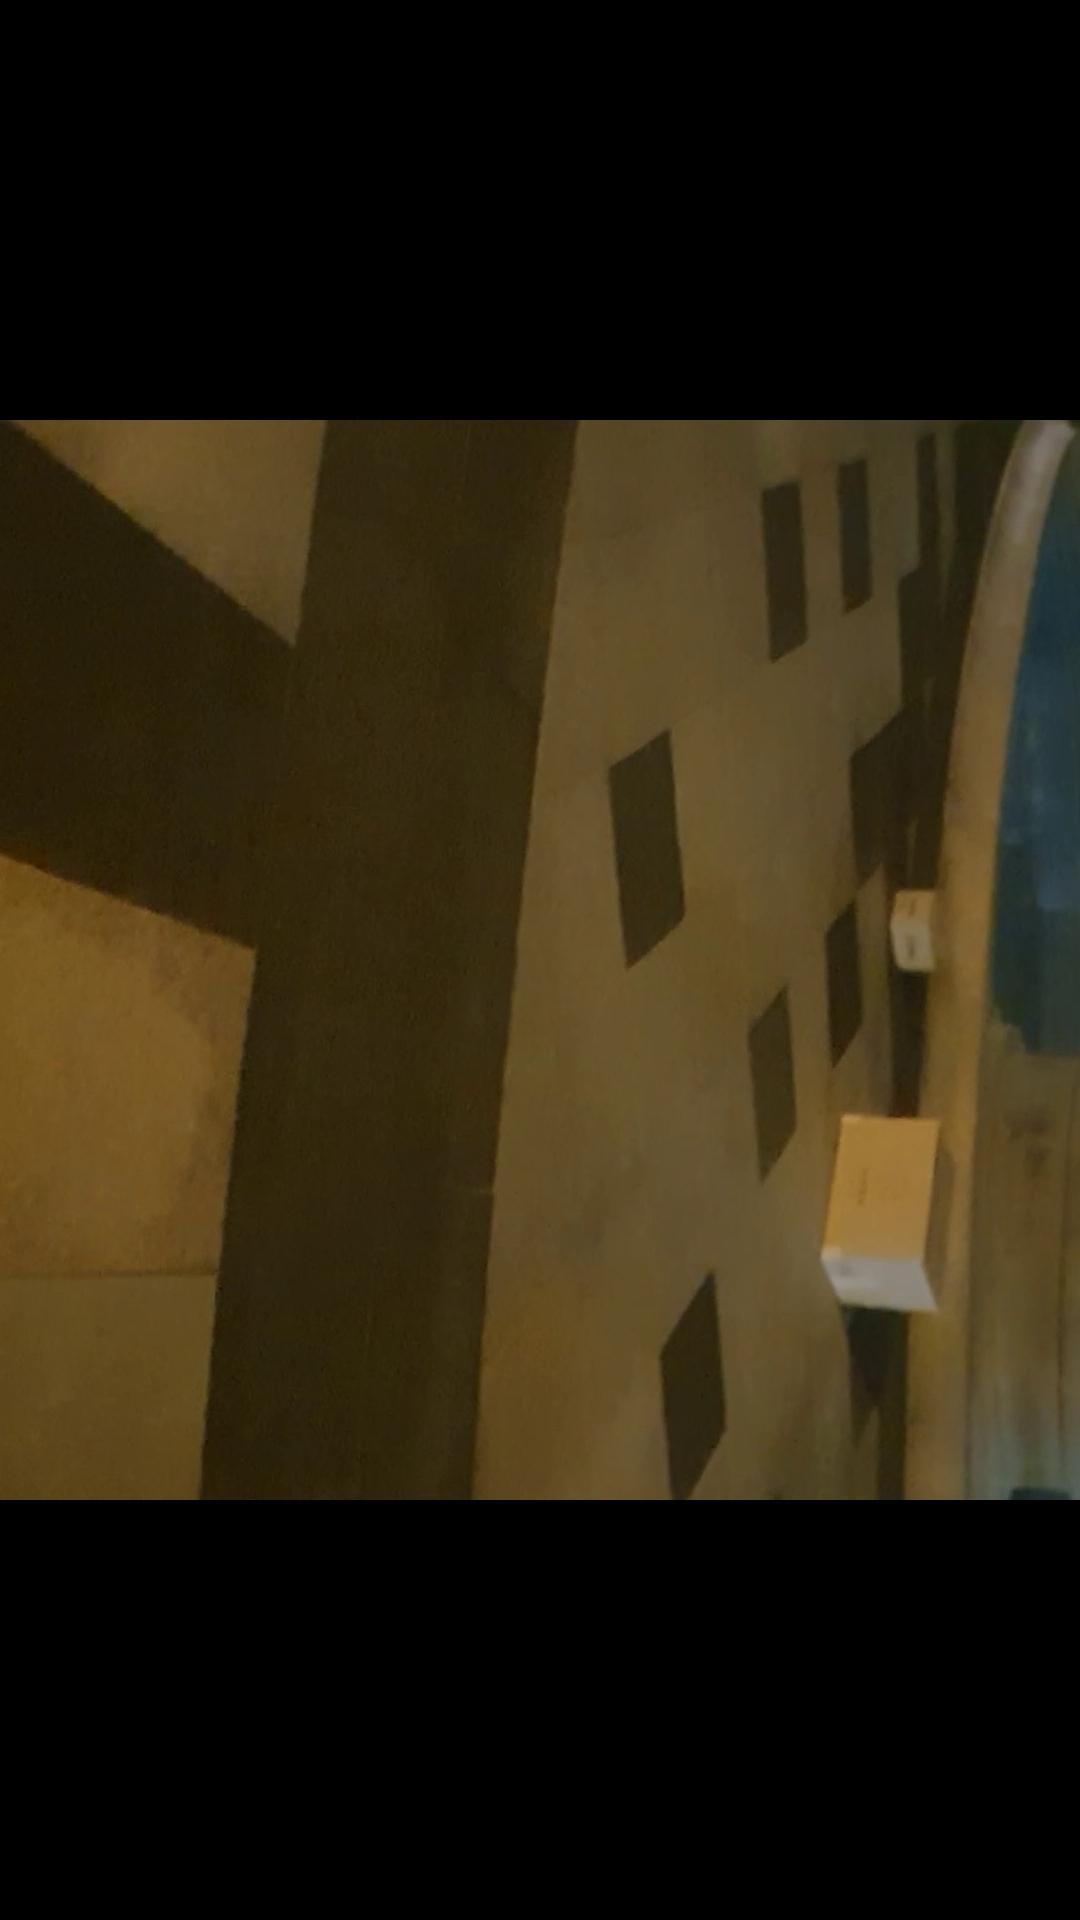Box: (818, 1098, 965, 1324), (873, 866, 955, 993)
